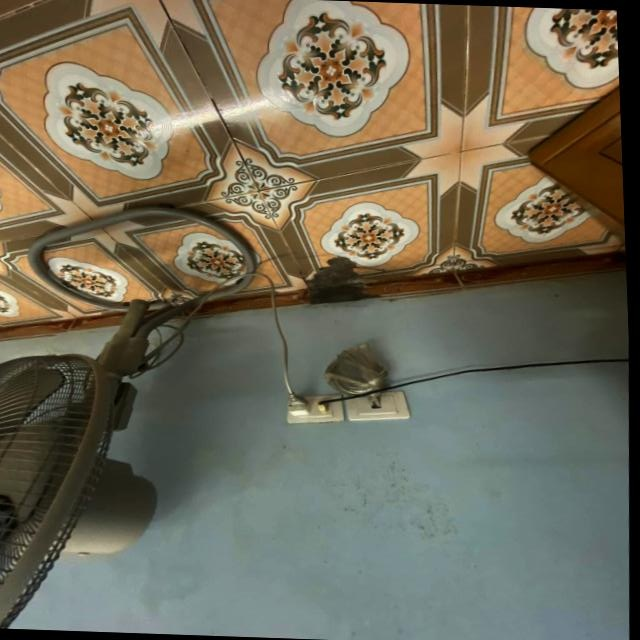outlet: (342, 389, 411, 424), (284, 393, 345, 427)
